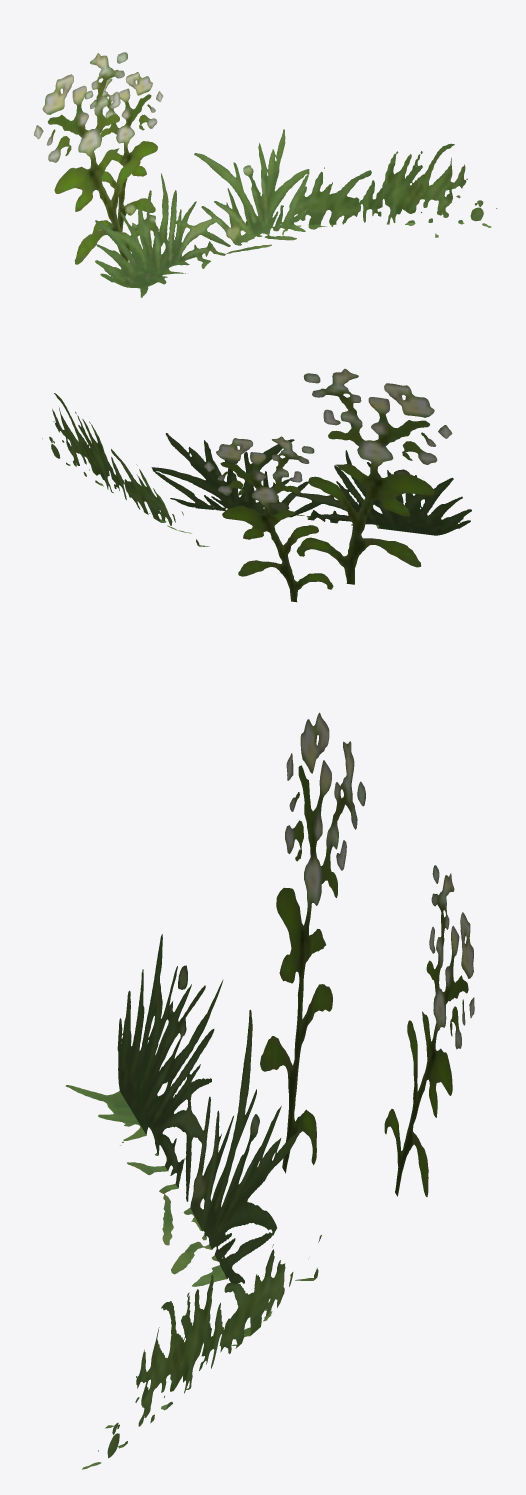
3 views of the same model, one above another, from view 1: azimuth 30°, elevation 25°; view 2: azimuth 150°, elevation 25°; view 3: azimuth 270°, elevation 25° (orthographic). The views are drawn at different scales.
Visible parts, largest first — view 1: mesh_30; view 2: mesh_30; view 3: mesh_30.
Boxes of the visible parts, x1=… form: mesh_30: x1=34, y1=52, x2=497, y2=297; mesh_30: x1=42, y1=368, x2=471, y2=602; mesh_30: x1=65, y1=712, x2=474, y2=1469.
Bounding box in the file's own units: 1.15 × 0.5474 × 0.5093.
